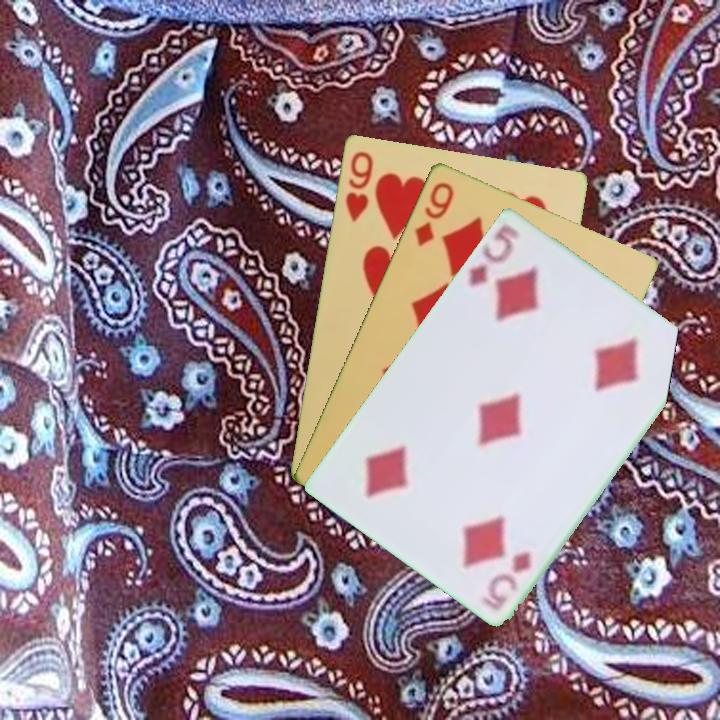5d: (465, 220, 523, 290), (490, 547, 534, 600)
9d: (410, 178, 457, 249)
9h: (341, 147, 376, 225)
